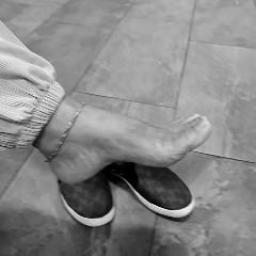Medial View -Left Foot-: (18, 81, 225, 194)
